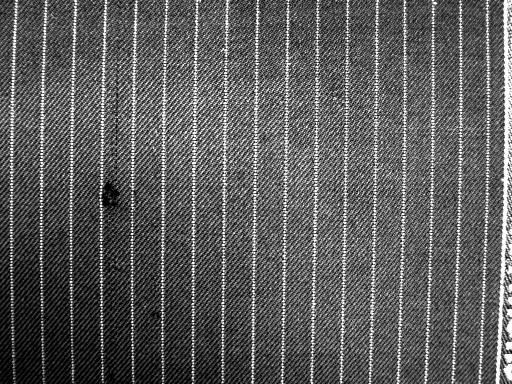fabric_hole: (92, 177, 134, 216), (92, 182, 132, 222)
